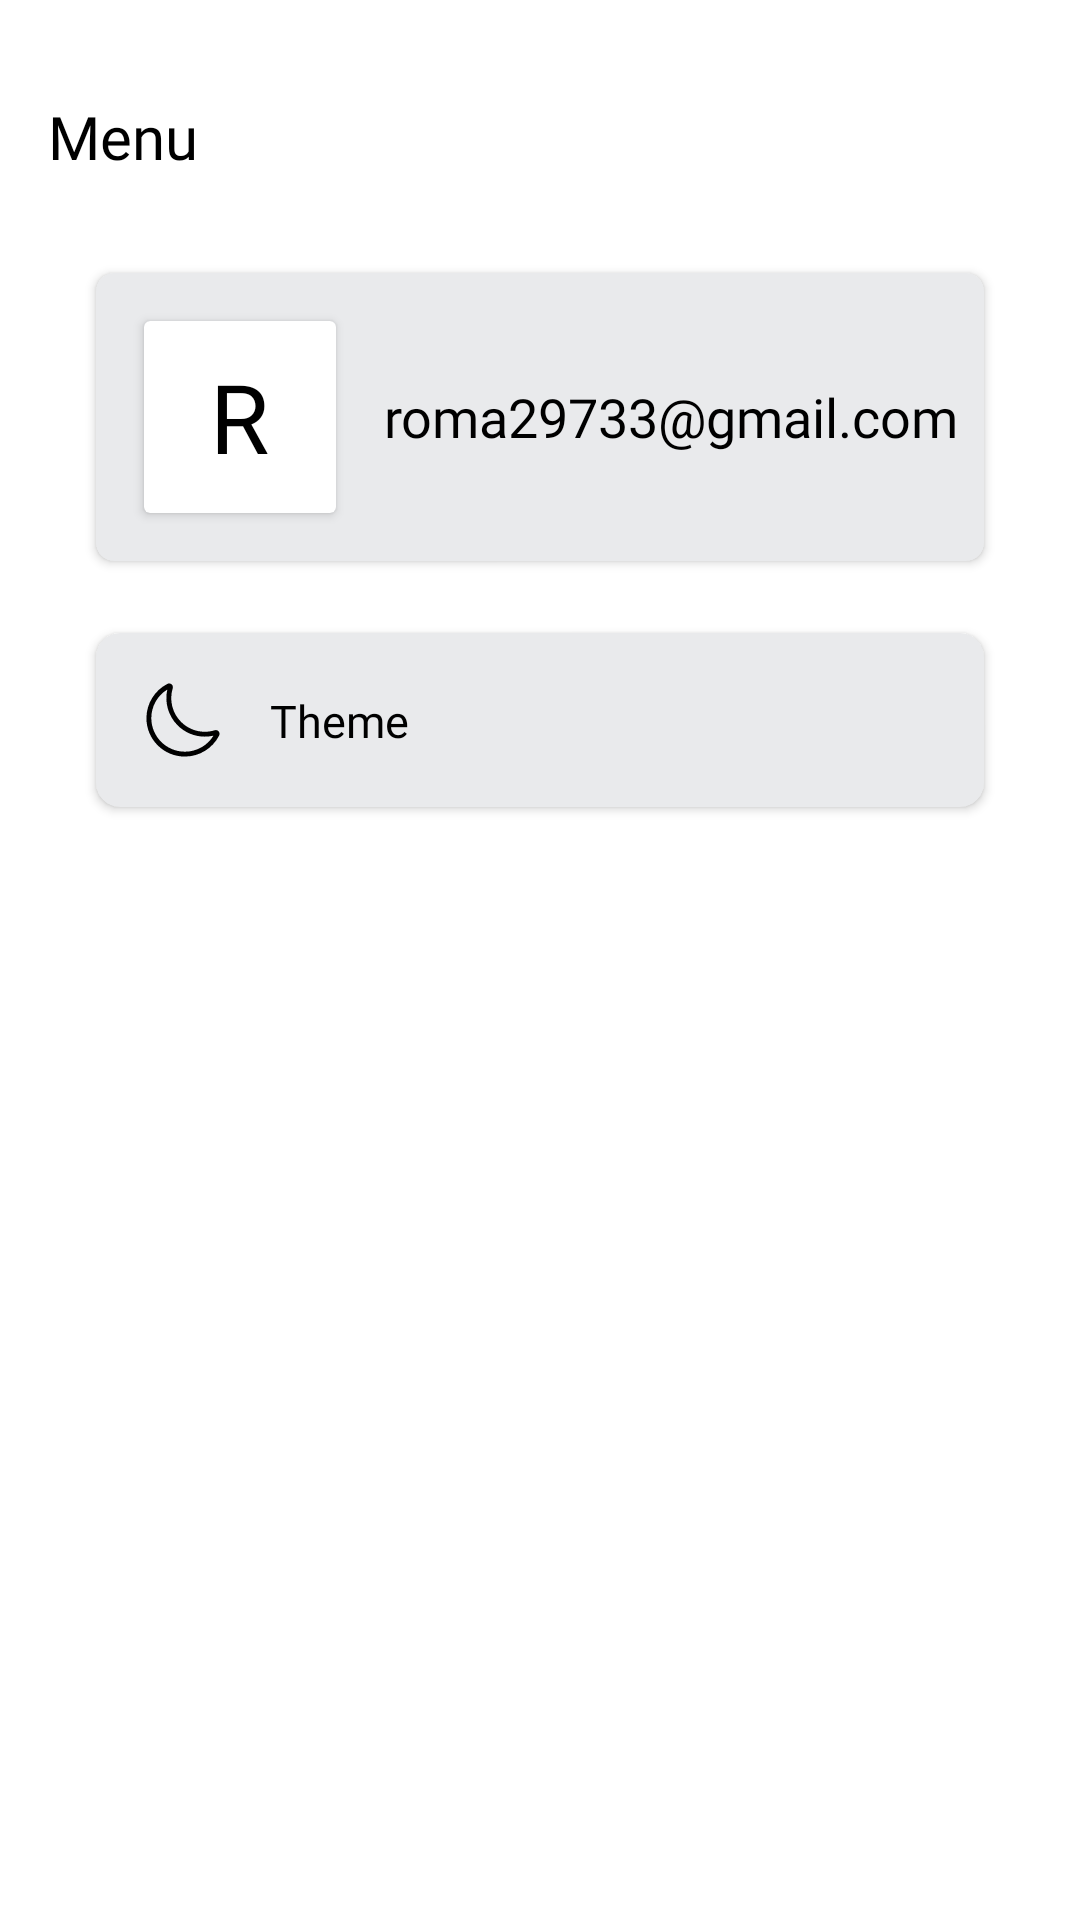

Where icons sit on this 1080*1920 app screen, as (x1, y1, x2, y2):
moon: (146, 683, 220, 757)
